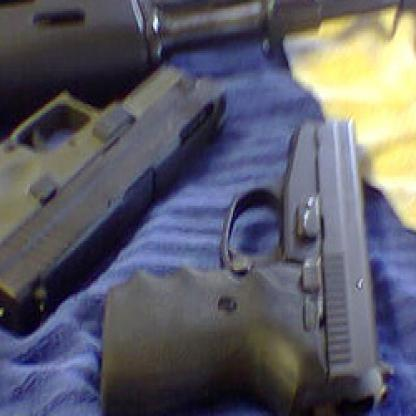gun: (92, 106, 394, 414), (0, 53, 232, 341), (0, 0, 415, 140)
